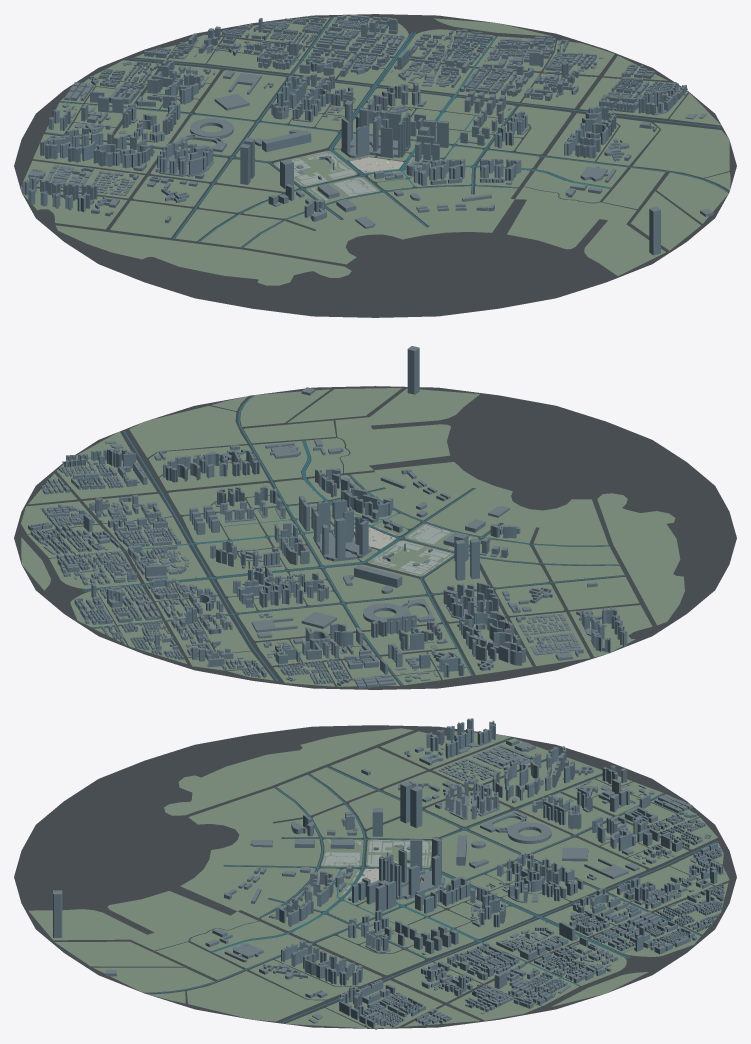
File: project-context.glb
The picture shows the model from 3 angles, top to bottom: view 1: azimuth 30°, elevation 25°; view 2: azimuth 150°, elevation 25°; view 3: azimuth 270°, elevation 25°; orthographic projection.
Visible parts, largest first — view 1: 白模周边-392-land, 白模周边-395-base, 白模周边-263-facade, 白模周边-263-roof, 白模周边-575-facade, 白模周边-393-west-site, 白模周边-575-roof, 白模周边-253-site-panel, 白模周边-257-site-panel, 白模周边-562-local-site; view 2: 白模周边-392-land, 白模周边-395-base, 白模周边-263-facade, 白模周边-263-roof, 白模周边-575-facade, 白模周边-393-west-site, 白模周边-575-roof, 白模周边-253-site-panel; view 3: 白模周边-392-land, 白模周边-395-base, 白模周边-263-facade, 白模周边-263-roof, 白模周边-575-facade, 白模周边-393-west-site, 白模周边-575-roof, 白模周边-257-site-panel, 白模周边-253-site-panel.
Boxes of the visible parts, box(x1,y1,x2,y2) form: 白模周边-392-land: box(21, 15, 730, 285); 白模周边-395-base: box(14, 14, 736, 317); 白模周边-263-facade: box(22, 15, 713, 255); 白模周边-263-roof: box(22, 14, 713, 226); 白模周边-575-facade: box(341, 100, 448, 165); 白模周边-393-west-site: box(276, 151, 377, 200); 白模周边-575-roof: box(341, 100, 448, 163); 白模周边-253-site-panel: box(59, 102, 727, 191); 白模周边-257-site-panel: box(130, 58, 720, 127); 白模周边-562-local-site: box(350, 157, 403, 173); 白模周边-392-land: box(21, 388, 684, 686); 白模周边-395-base: box(14, 386, 736, 689); 白模周边-263-facade: box(28, 348, 627, 688); 白模周边-263-roof: box(28, 346, 626, 686); 白模周边-575-facade: box(299, 496, 371, 561); 白模周边-393-west-site: box(371, 524, 470, 575); 白模周边-575-roof: box(299, 495, 371, 558); 白模周边-253-site-panel: box(238, 396, 402, 685); 白模周边-392-land: box(28, 728, 729, 1028); 白模周边-395-base: box(14, 725, 736, 1028); 白模周边-263-facade: box(53, 719, 724, 1029); 白模周边-263-roof: box(53, 718, 724, 1029); 白模周边-575-facade: box(348, 837, 444, 911); 白模周边-393-west-site: box(322, 839, 431, 866); 白模周边-575-roof: box(348, 837, 444, 898); 白模周边-257-site-panel: box(282, 841, 717, 1022); 白模周边-253-site-panel: box(147, 793, 664, 993).
Bounding box in the file's own units: 1355 × 92.05 × 1359.
